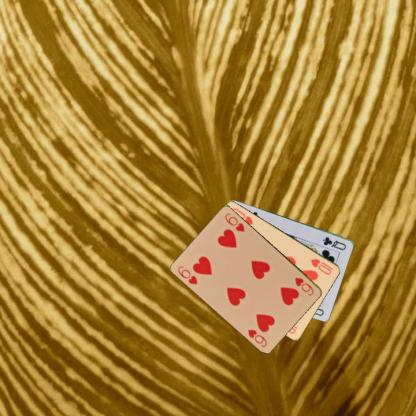10h: (308, 256, 334, 276)
6h: (175, 263, 199, 286), (292, 275, 315, 297)
Qc: (321, 234, 347, 251)
